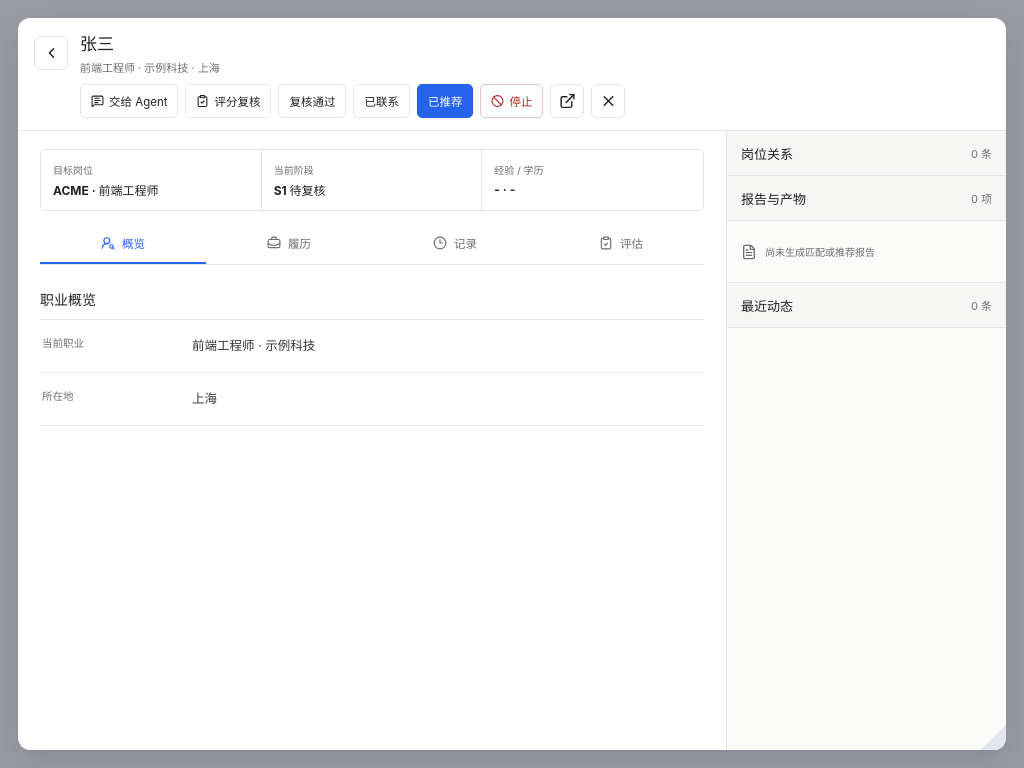
Test case: 评分复核快捷记录（S4-5 N5） › 点选快捷结论后 commit 携带结论 note（经既有 commit 链路）
The width and height of the screenshot is (1024, 768).
Click the button "评分复核" at (228, 101), box x1=186 y1=84 x2=272 y2=118
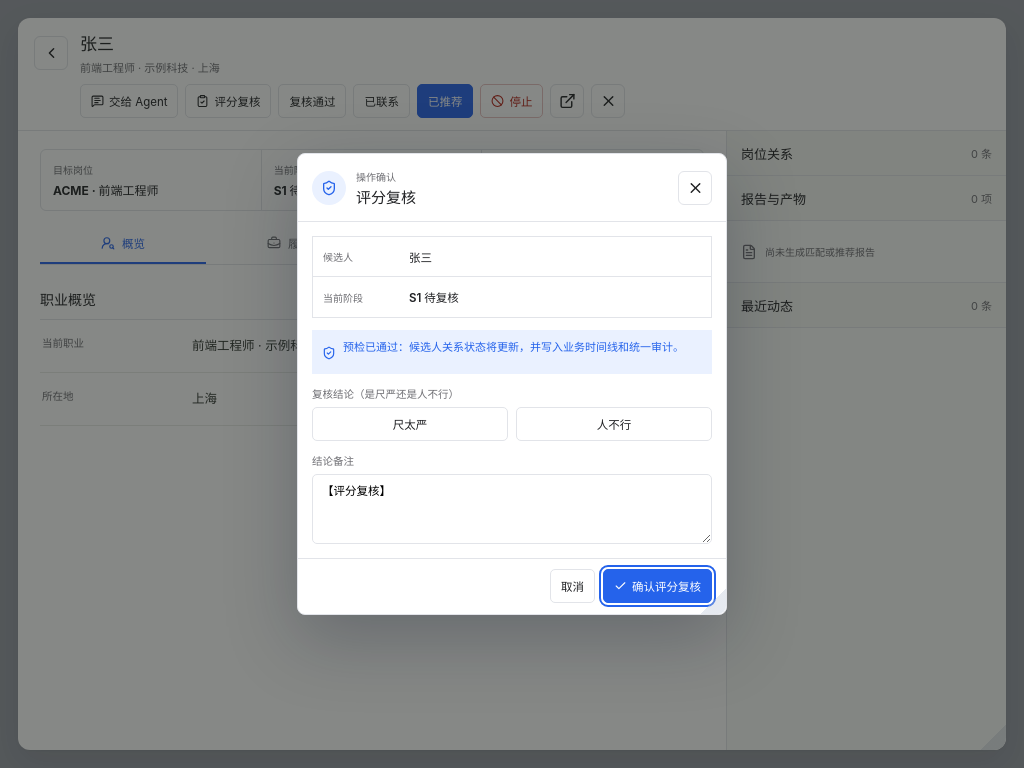
Click the button "尺太严" at (410, 424), box x1=312 y1=407 x2=508 y2=441
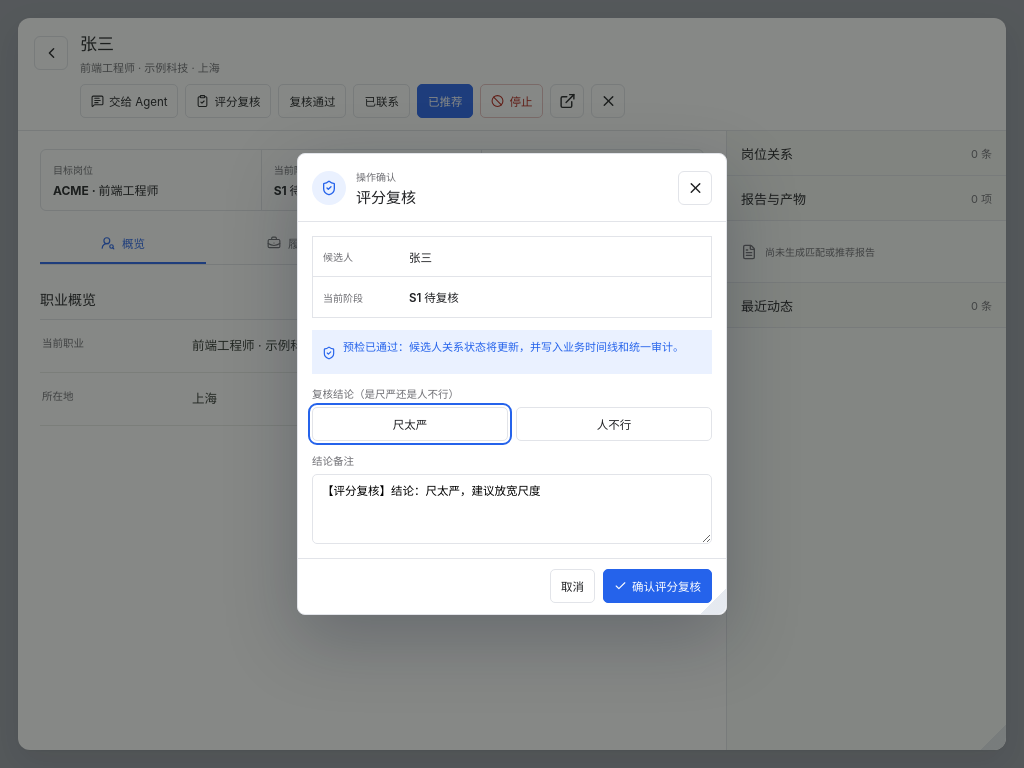
Expected: the text box labelled "结论备注" holds "【评分复核】结论：尺太严，建议放宽尺度", x1=312 y1=474 x2=712 y2=544
Click the button "确认评分复核" at (658, 586), box x1=603 y1=569 x2=712 y2=603
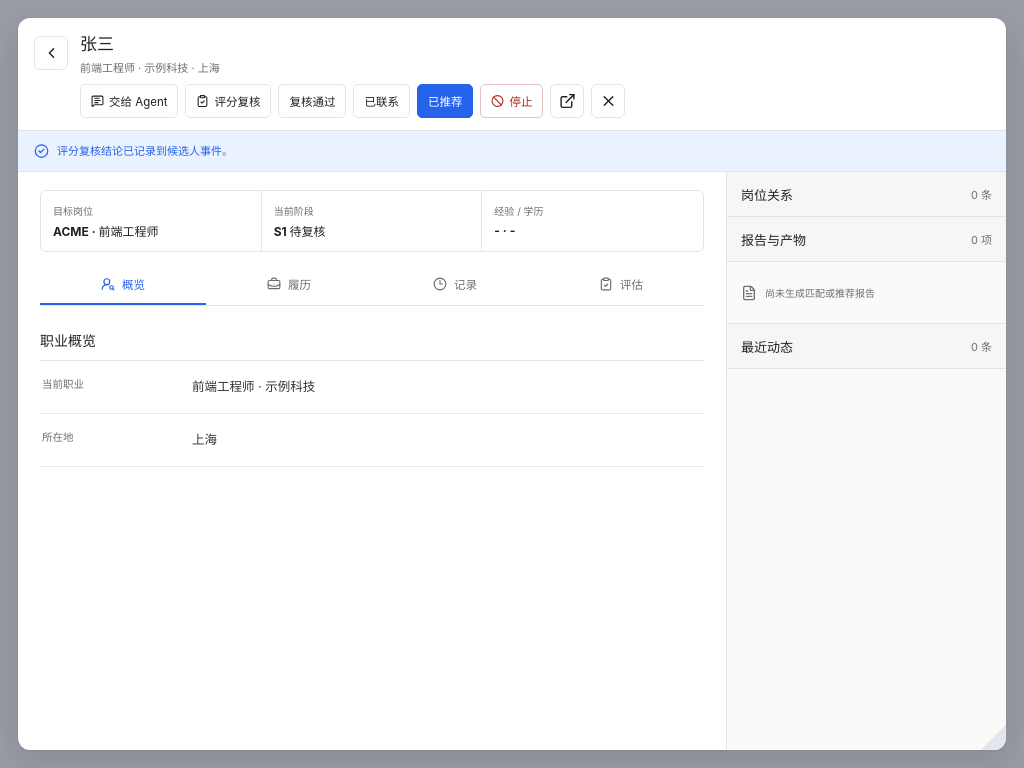
Expected: the text "评分复核结论已记录到候选人事件。" is shown, x1=57 y1=143 x2=233 y2=159
